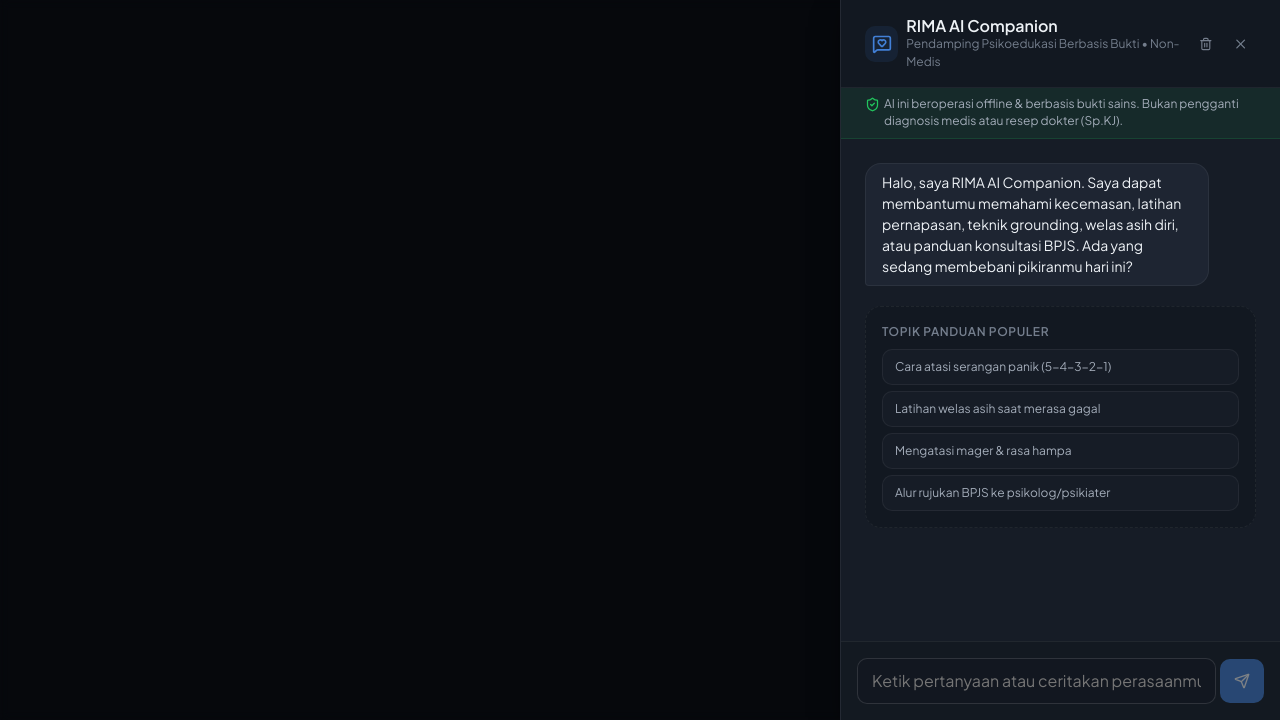
it: RIMA Crisis Interceptor, Negation Guard & C-SSRS Triase (P1 Step 2) › 3. C-SSRS Tiered Triage & De-escalation Protocol › provides FastActionSafetyCard, 119 Ext 8, and grounding in ChatbotDrawer UI
Step 1. Type "Saya ingin bunuh diri malam ini" into the field with placeholder "Ketik pertanyaan atau ceritakan perasaanmu..." → (1036,681), box 857,658 -> 1216,704
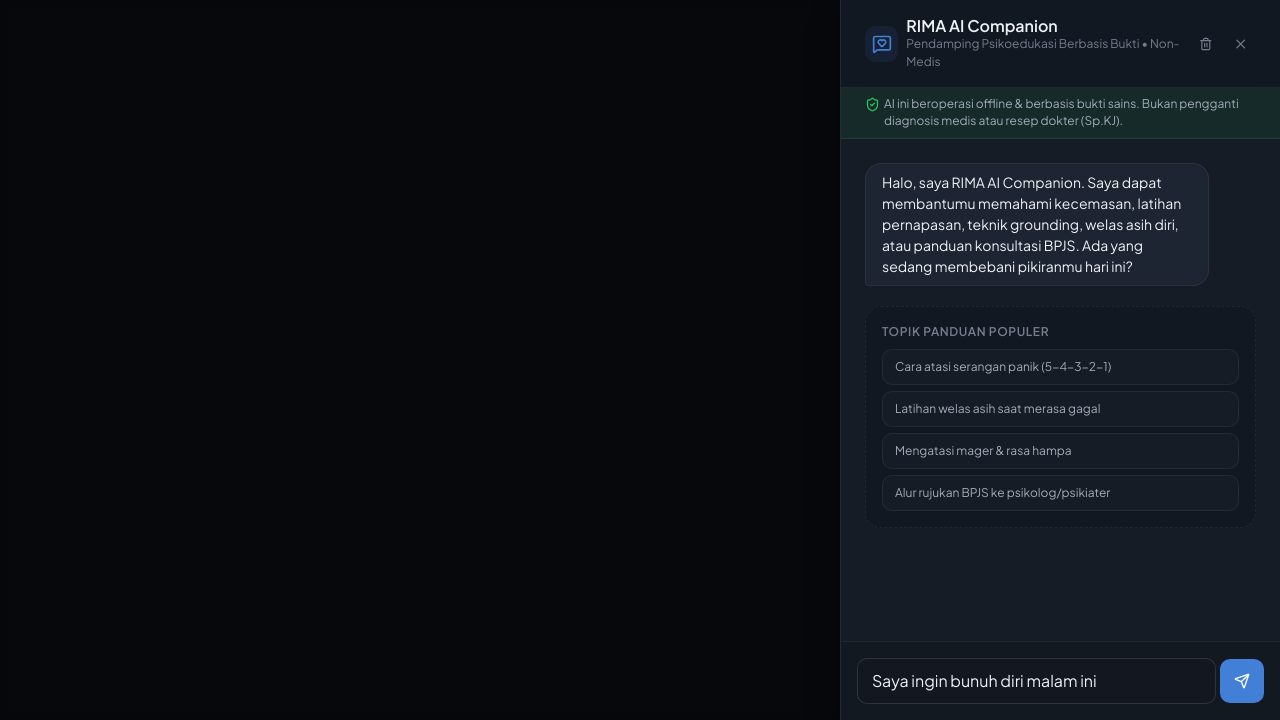
Step 2. Click the button named "Kirim pesan" → (1242,681), box 1220,659 -> 1264,703
Wait 300 ms
(page scrolled)
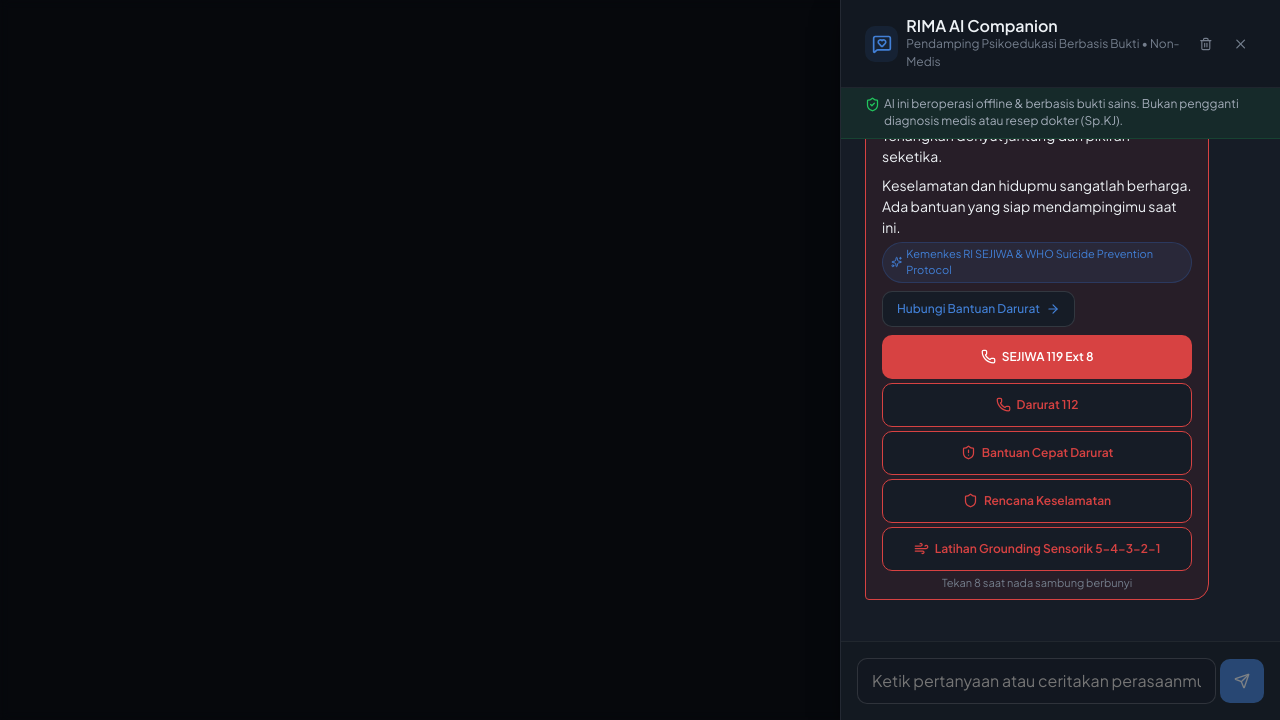
Check: the button "Bantuan Cepat Darurat" is shown
Step 3. Click the button "Bantuan Cepat Darurat" → (1037,453), box 882,431 -> 1192,475
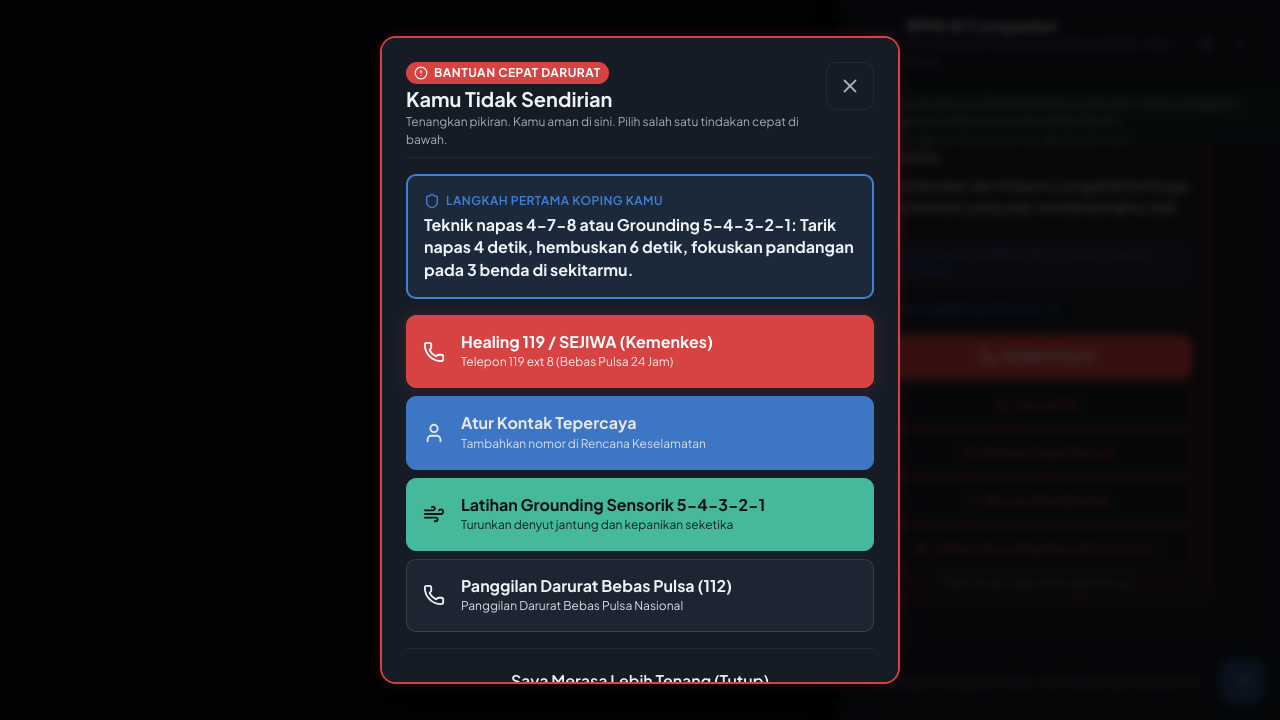
Check: the dialog "Kamu Tidak Sendirian" is shown, box 380,36 -> 900,684
